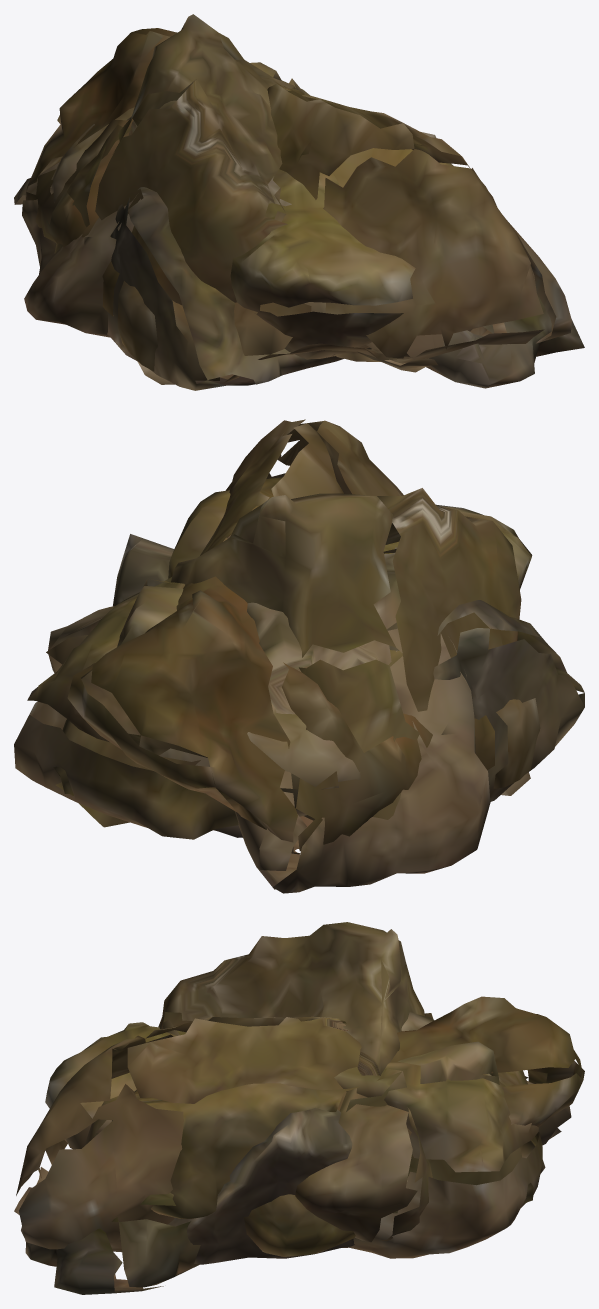
File: rock-moss-set-01.glb
3 views of the same model, one above another, from view 1: azimuth 30°, elevation 25°; view 2: azimuth 150°, elevation 25°; view 3: azimuth 270°, elevation 25° (orthographic). The views are drawn at different scales.
Visible parts, largest first — view 1: rock_moss_set_01_rock01, rock_moss_set_01_rock04, rock_moss_set_01_rock05, rock_moss_set_01_rock03, rock_moss_set_01_rock02, rock_moss_set_01_rock06; view 2: rock_moss_set_01_rock01, rock_moss_set_01_rock04, rock_moss_set_01_rock02, rock_moss_set_01_rock05, rock_moss_set_01_rock03, rock_moss_set_01_rock06; view 3: rock_moss_set_01_rock01, rock_moss_set_01_rock04, rock_moss_set_01_rock05, rock_moss_set_01_rock06, rock_moss_set_01_rock03, rock_moss_set_01_rock02.
Boxes of the visible parts, box(x1,y1,x2,y2) form: rock_moss_set_01_rock01: box(25, 28, 571, 384); rock_moss_set_01_rock04: box(54, 14, 296, 305); rock_moss_set_01_rock05: box(50, 80, 415, 359); rock_moss_set_01_rock03: box(107, 132, 436, 390); rock_moss_set_01_rock02: box(14, 100, 584, 388); rock_moss_set_01_rock06: box(250, 62, 472, 372); rock_moss_set_01_rock01: box(67, 419, 540, 854); rock_moss_set_01_rock04: box(46, 488, 521, 820); rock_moss_set_01_rock02: box(234, 547, 490, 893); rock_moss_set_01_rock05: box(14, 504, 532, 839); rock_moss_set_01_rock03: box(112, 534, 584, 837); rock_moss_set_01_rock06: box(53, 477, 397, 827); rock_moss_set_01_rock01: box(14, 996, 584, 1252); rock_moss_set_01_rock04: box(158, 922, 433, 1242); rock_moss_set_01_rock05: box(45, 1022, 545, 1258); rock_moss_set_01_rock06: box(84, 1041, 533, 1256); rock_moss_set_01_rock03: box(168, 1107, 407, 1264); rock_moss_set_01_rock02: box(21, 1012, 571, 1294).
Size of the model in its own units: 2.57 by 1.75 by 3.33.
Materials: 6 (6 with a texture image).
